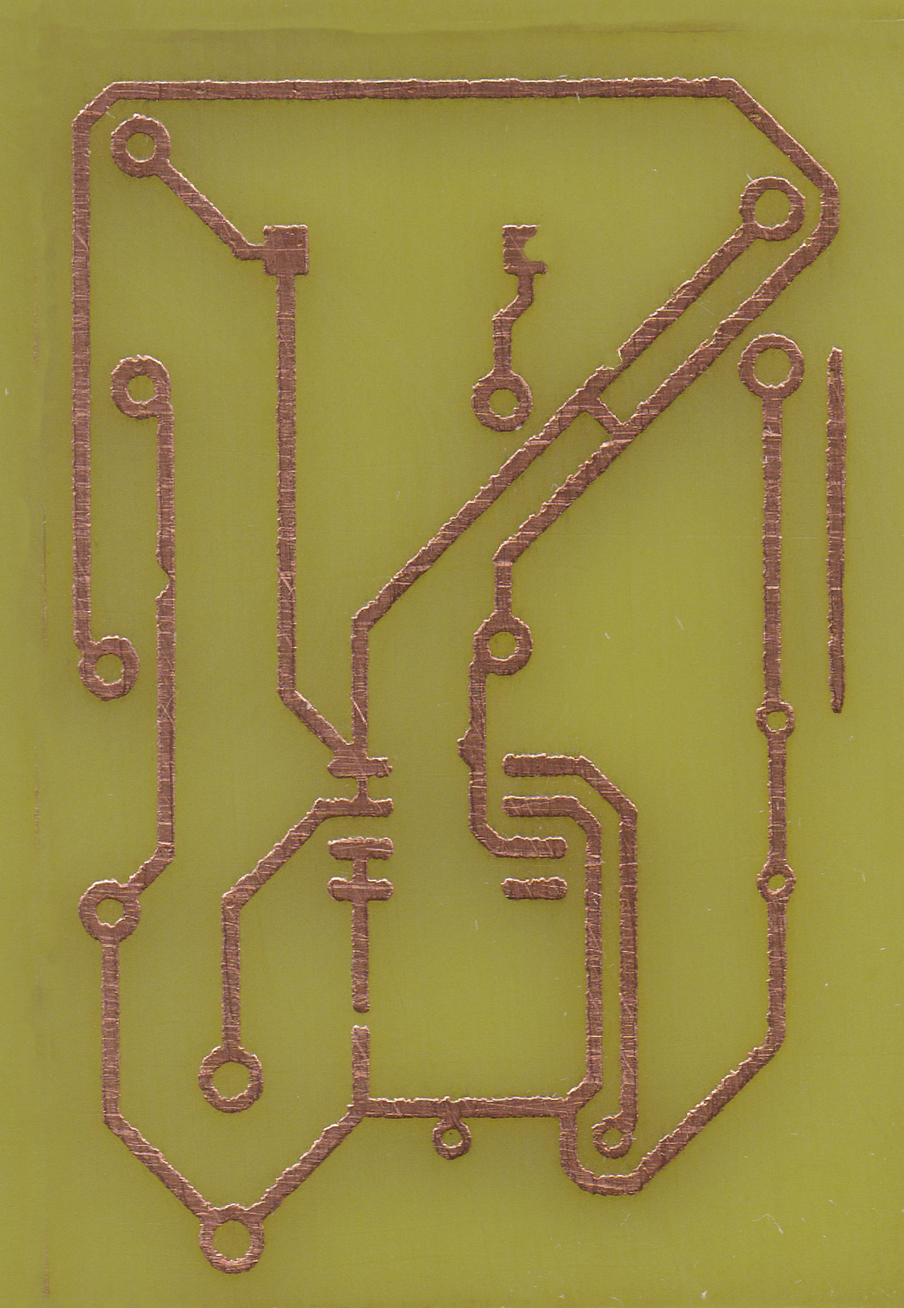missing_hole: (502, 224, 549, 275)
mouse_bite: (152, 556, 175, 606), (595, 348, 624, 372)
open_circuit: (350, 996, 371, 1038)
short: (574, 390, 635, 440)
spur: (455, 725, 486, 770)
spurious_copper: (824, 346, 849, 714)
